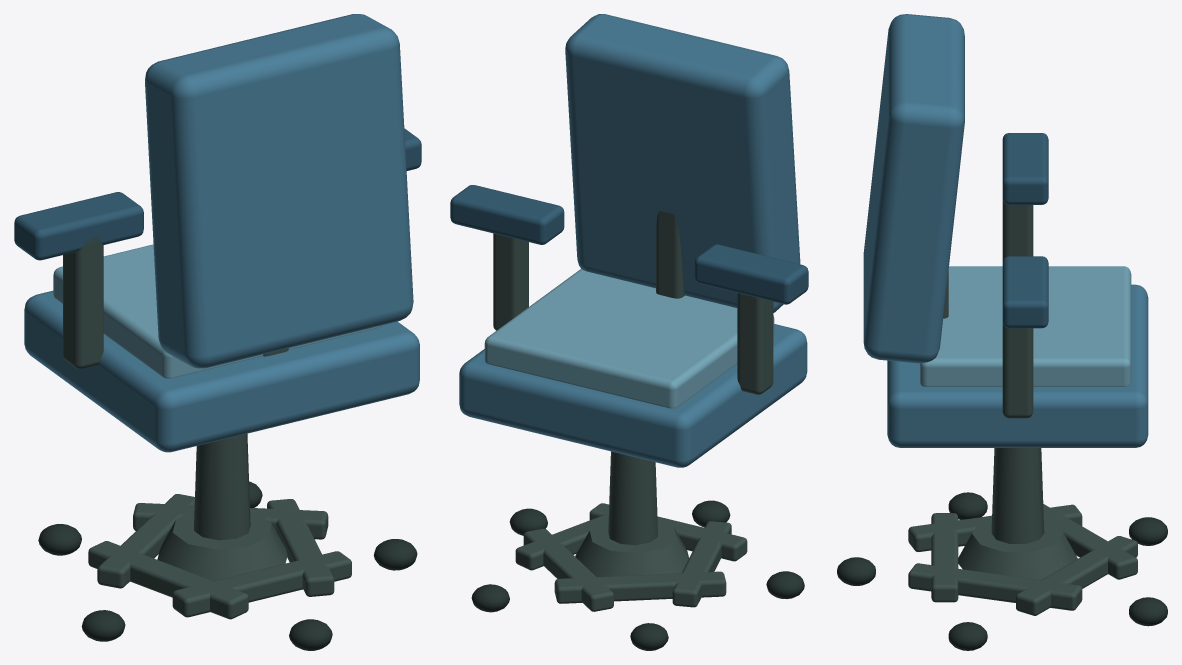
File: chair.glb
The picture shows the model from 3 angles, left to right: view 1: azimuth 30°, elevation 25°; view 2: azimuth 150°, elevation 25°; view 3: azimuth 270°, elevation 25°; orthographic projection. The views are drawn at different scales.
Visible parts, largest first — view 1: Backrest, SeatBase, SeatCushion, ArmPad0, Hub, Pedestal, ArmPost0, Foot0, Foot4, Foot1, Foot3, Foot2 (+5 smaller); view 2: Backrest, SeatCushion, SeatBase, ArmPad0, ArmPad1, Hub, Pedestal, ArmPost0, Foot3, ArmPost1, Foot2, Foot4 (+8 smaller); view 3: Backrest, SeatCushion, SeatBase, Pedestal, Hub, Foot1, ArmPad1, ArmPad0, ArmPost1, Foot2, Foot0, Foot3 (+7 smaller).
Part boxes in pixels (x1,y1,x2,y2): Backrest: (145, 14, 413, 368); SeatBase: (24, 290, 419, 452); SeatCushion: (53, 244, 381, 378); ArmPad0: (14, 192, 143, 260); Hub: (157, 511, 287, 580); Pedestal: (194, 434, 250, 540); ArmPost0: (63, 236, 103, 368); Foot0: (172, 551, 351, 617); Foot4: (88, 541, 248, 619); Foot1: (267, 499, 334, 596); Foot3: (97, 494, 194, 588); Foot2: (133, 503, 328, 539); Backrest: (565, 14, 800, 312); SeatCushion: (484, 269, 774, 408); SeatBase: (459, 324, 807, 467); ArmPad0: (694, 244, 808, 304); ArmPad1: (450, 185, 564, 244); Hub: (575, 519, 688, 576); Pedestal: (608, 451, 657, 545); ArmPost0: (737, 293, 773, 394); Foot3: (554, 571, 726, 603); ArmPost1: (493, 233, 528, 330); Foot2: (523, 528, 613, 611); Foot4: (672, 521, 731, 607); Backrest: (863, 14, 964, 363); SeatCushion: (920, 266, 1131, 386); SeatBase: (887, 284, 1148, 447); Pedestal: (991, 448, 1044, 543); Hub: (958, 518, 1077, 579); Foot1: (908, 563, 1082, 610); ArmPad1: (1002, 256, 1048, 328); ArmPad0: (1002, 133, 1048, 204); ArmPost1: (1002, 323, 1033, 418); Foot2: (1016, 536, 1137, 615); Foot0: (931, 513, 958, 602); Foot3: (1043, 504, 1137, 579).
Size of the model in its own units: 1.06 by 1.51 by 0.8612.
